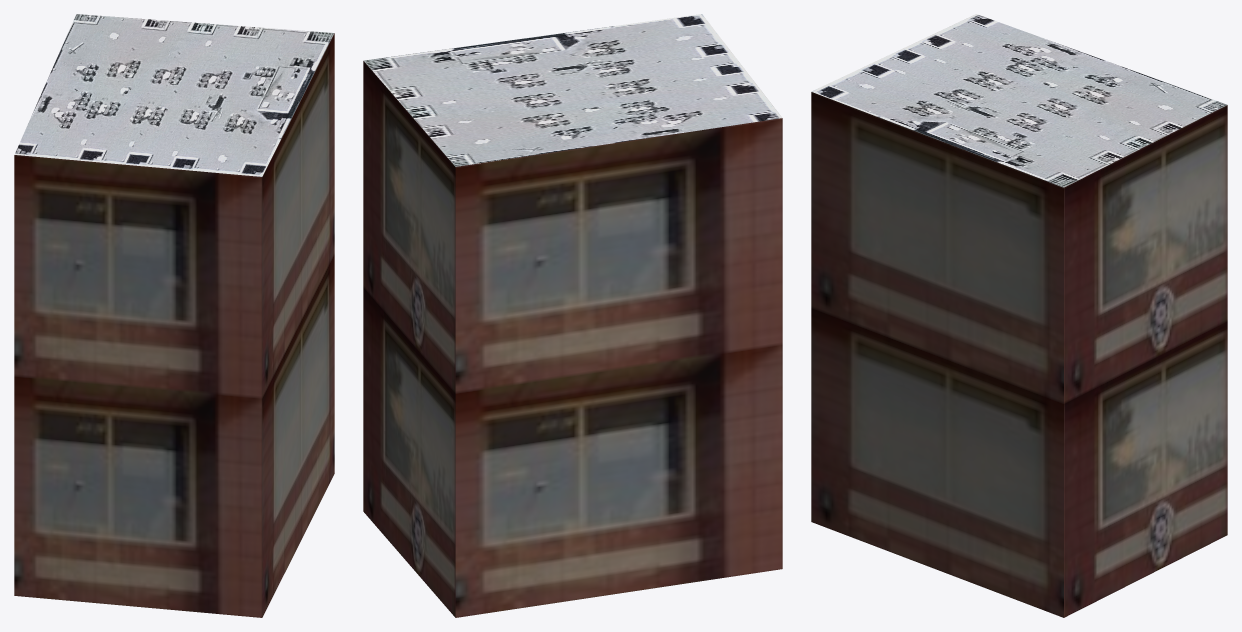
Rendered from ResTex__2691.fbx.
3 renders of one model, left to right at view 1: azimuth 30°, elevation 25°; view 2: azimuth 150°, elevation 25°; view 3: azimuth 270°, elevation 25°, orthographic. The views are drawn at different scales.
Parts seen in each view (by area): view 1: CityEngineMaterial_13_m, CityEngineMaterial_4_m; view 2: CityEngineMaterial_13_m, CityEngineMaterial_4_m; view 3: CityEngineMaterial_13_m, CityEngineMaterial_4_m.
Boxes of the visible parts, bbox=[...] form: CityEngineMaterial_13_m: bbox=[14, 33, 334, 617]; CityEngineMaterial_4_m: bbox=[14, 14, 334, 176]; CityEngineMaterial_13_m: bbox=[363, 61, 782, 617]; CityEngineMaterial_4_m: bbox=[364, 14, 781, 166]; CityEngineMaterial_13_m: bbox=[811, 92, 1227, 617]; CityEngineMaterial_4_m: bbox=[811, 14, 1227, 187].
Size of the model in its own units: 5.2 by 6 by 5.27.
2 materials, 2 textured.
